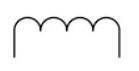inductor: (9, 13, 124, 63)
